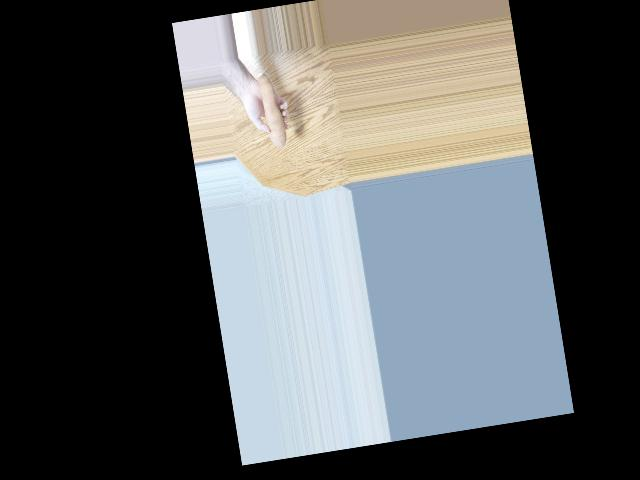sweet_potato: (258, 72, 293, 152)
